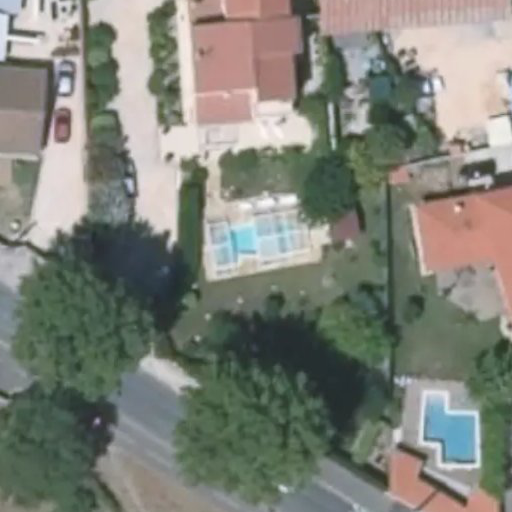pool: (199, 205, 319, 274), (409, 381, 487, 475)
